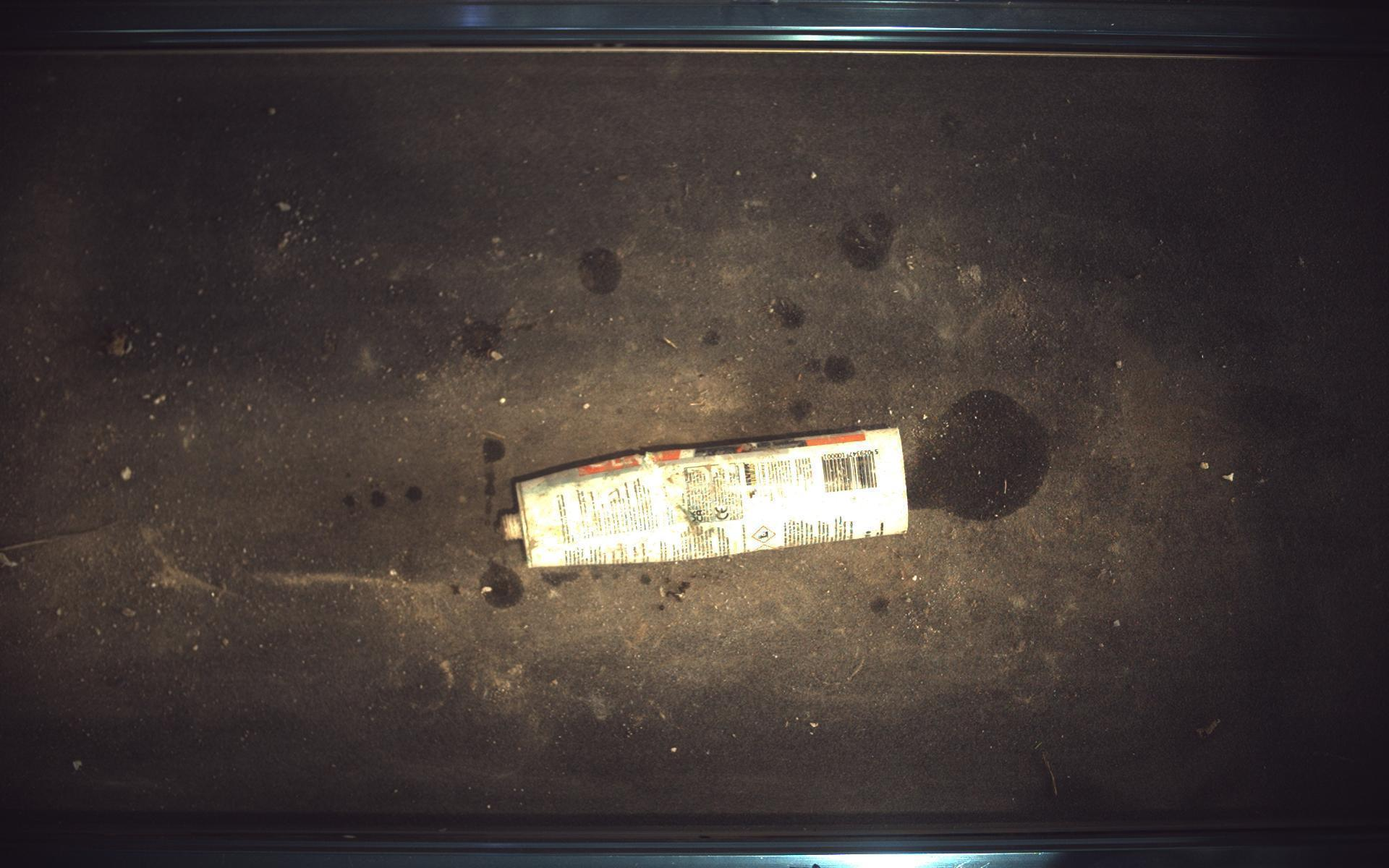plastic: (502, 427, 910, 570)
